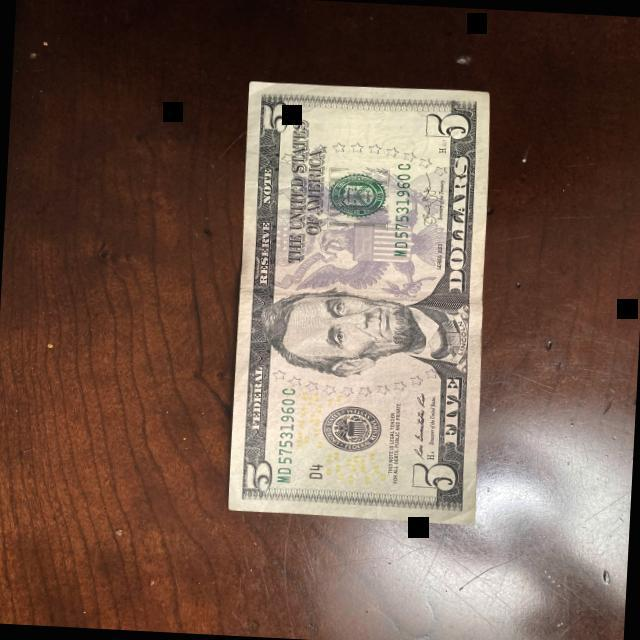five: (228, 77, 494, 524)
